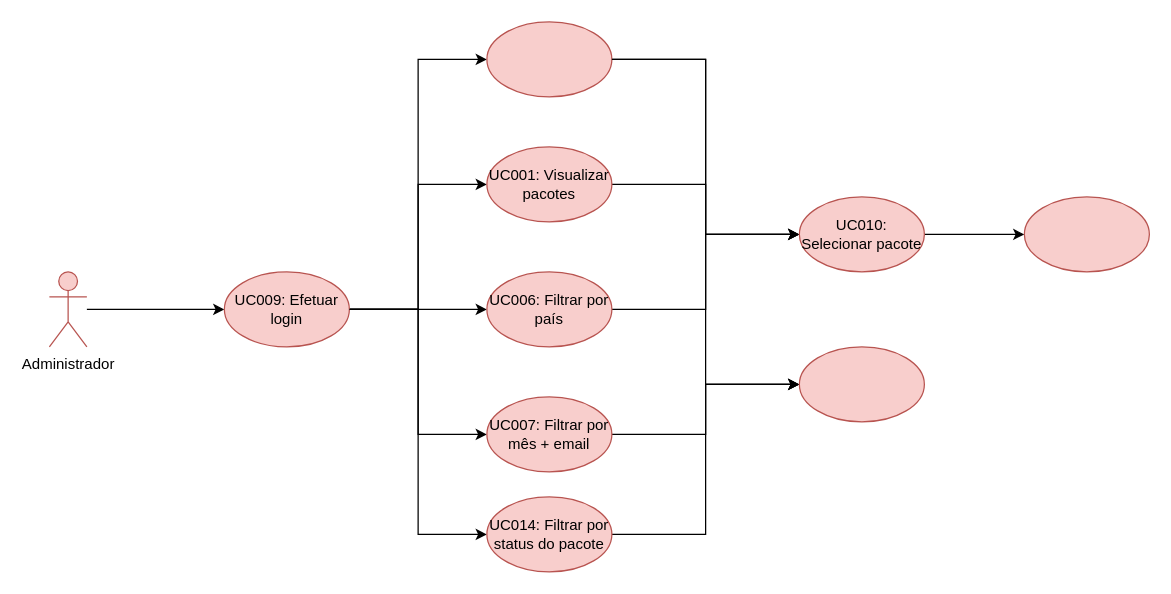
This 1171x594 diagram has some shape labels left out. The centre of each missing label's shape, as x and y in pixels:
"UC004: Atualizar pacotes" goes at (1086,234).
"UC005: Filtrar por mês" goes at (549,59).
"UC008: Alterar status do pacote" goes at (861,384).
